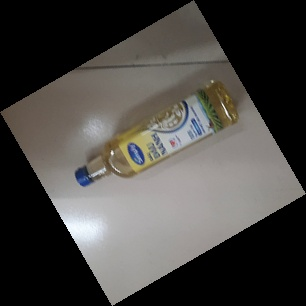Simply: (73, 79, 242, 186)
